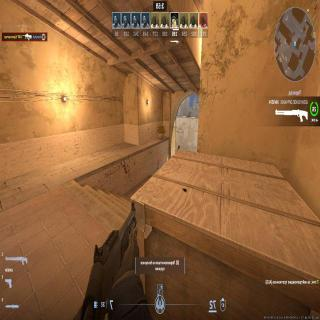T-Head: (178, 144, 180, 150)
